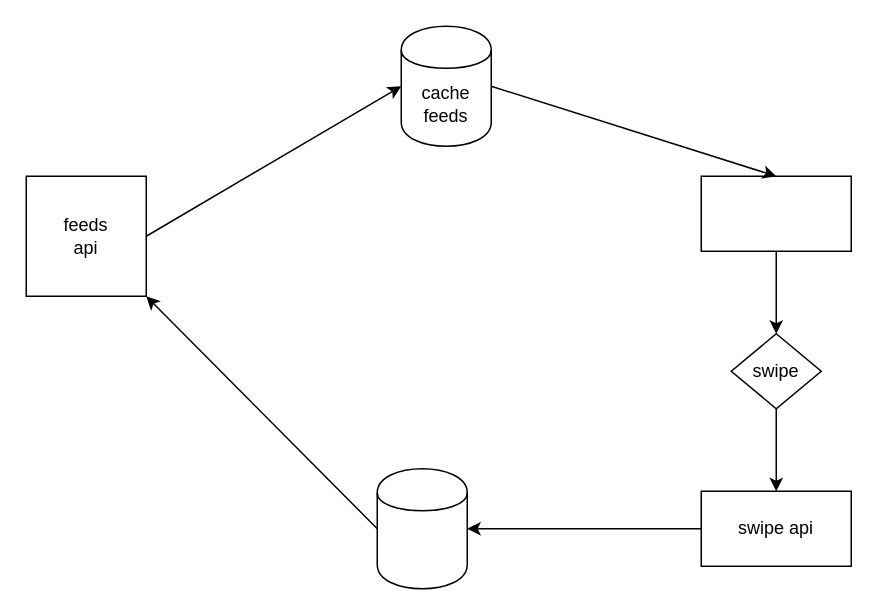
The diagram is 878 pixels wide and 615 high, and some of its shapes have lost their labels. The box of each missing label's shape, as (x1, y1, x2, y2) in pixels:
client: (700, 175, 851, 251)
sql: (376, 467, 467, 589)
